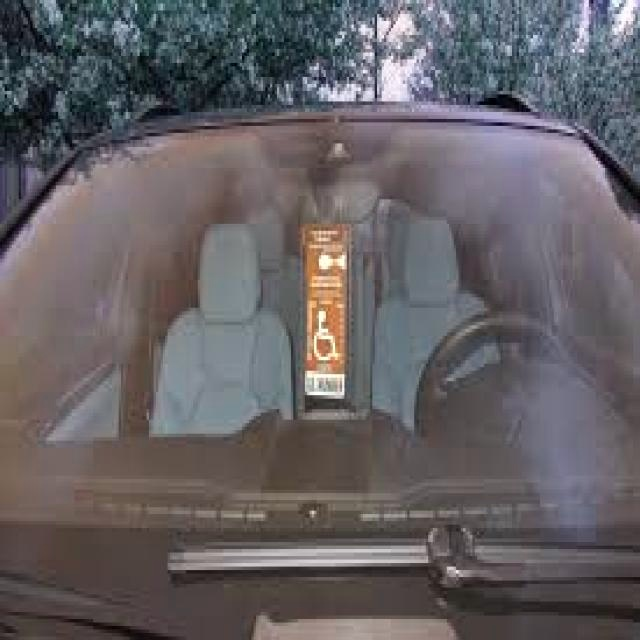ISA: (314, 311, 338, 362)
